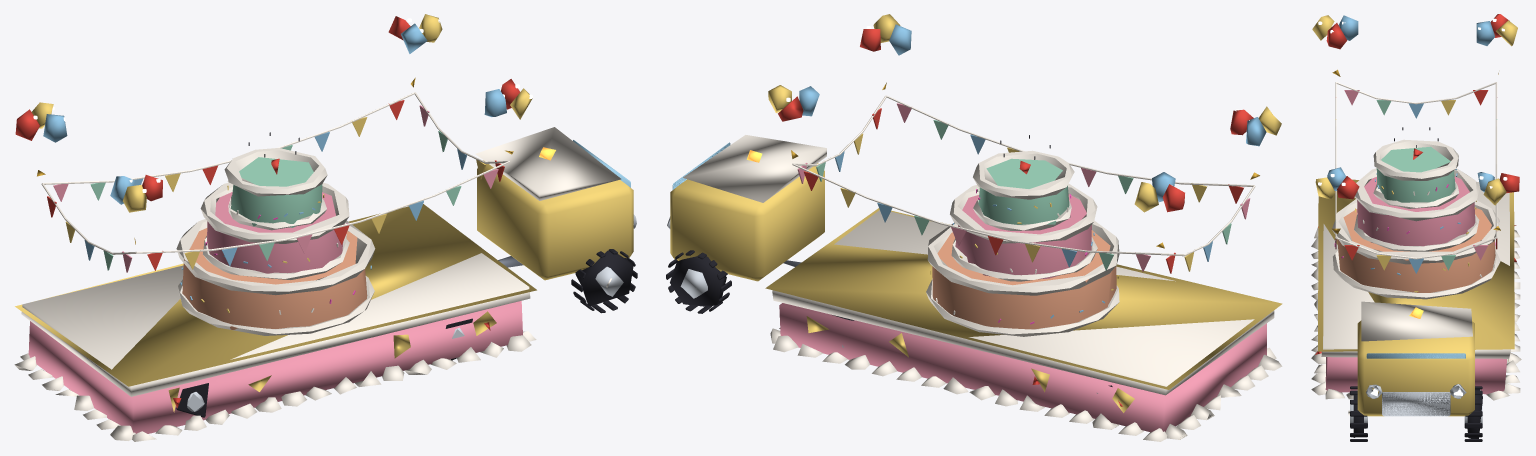
Rendered from parade_float.glb.
3 renders of one model, left to right at view 1: azimuth 30°, elevation 25°; view 2: azimuth 150°, elevation 25°; view 3: azimuth 270°, elevation 25°, orthographic. The views are drawn at different scales.
Parts seen in each view (by area): view 1: parade_float; view 2: parade_float; view 3: parade_float.
Boxes of the visible parts, left/top/right/bottom form: parade_float: left=14, top=14, right=637, bottom=441; parade_float: left=666, top=14, right=1282, bottom=441; parade_float: left=1311, top=14, right=1521, bottom=441.
Bounding box in the file's own units: 7.04 × 3.18 × 2.76.
1 material, 1 textured.
